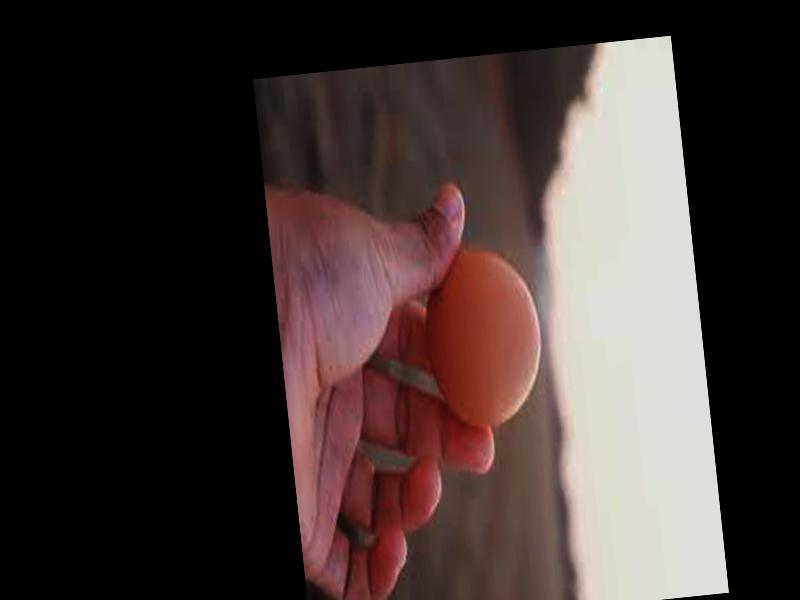Eggs: (420, 244, 549, 432)
